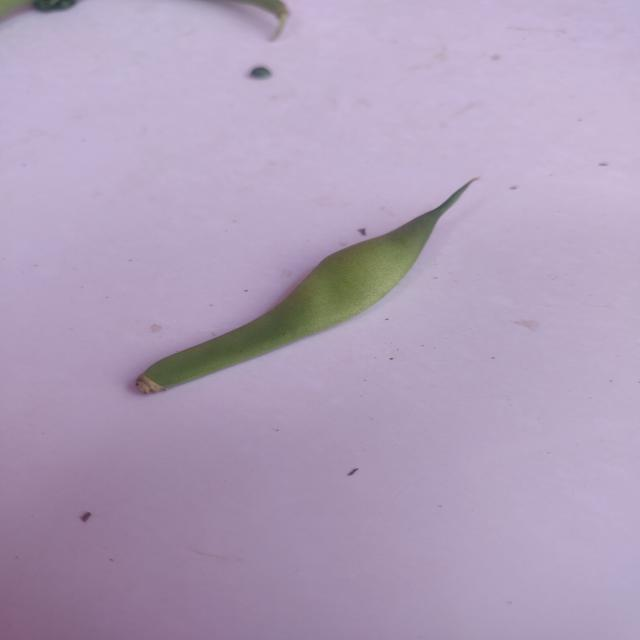Beans: (119, 160, 486, 421)
